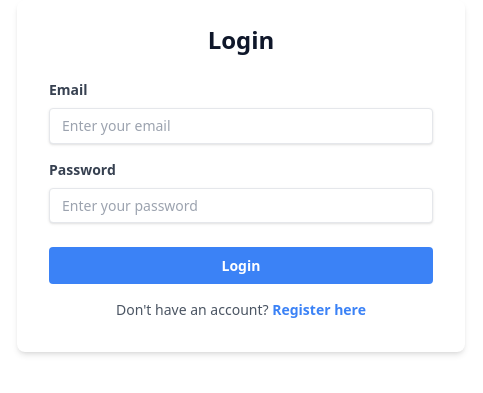
it: LoginForm › should show validation error for empty password
In the field labelled "Email": (241,126) [49,108,433,144], type "test@example.com"
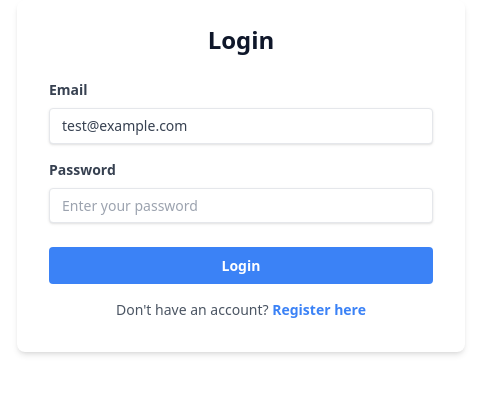
Click the button "Login": (241,266) [49,247,433,284]
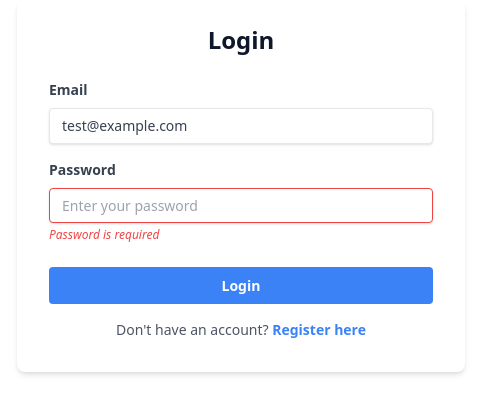
Expected: the text "Password is required" is shown, [49,226,159,243]
